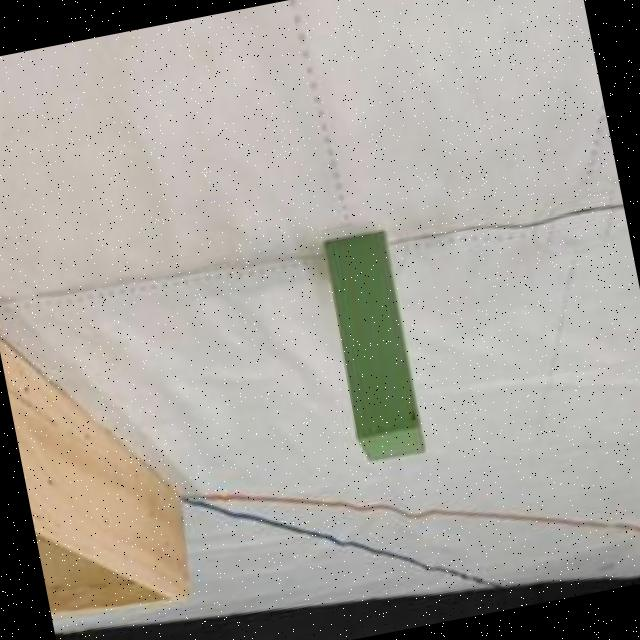greenbox: (310, 224, 436, 476)
